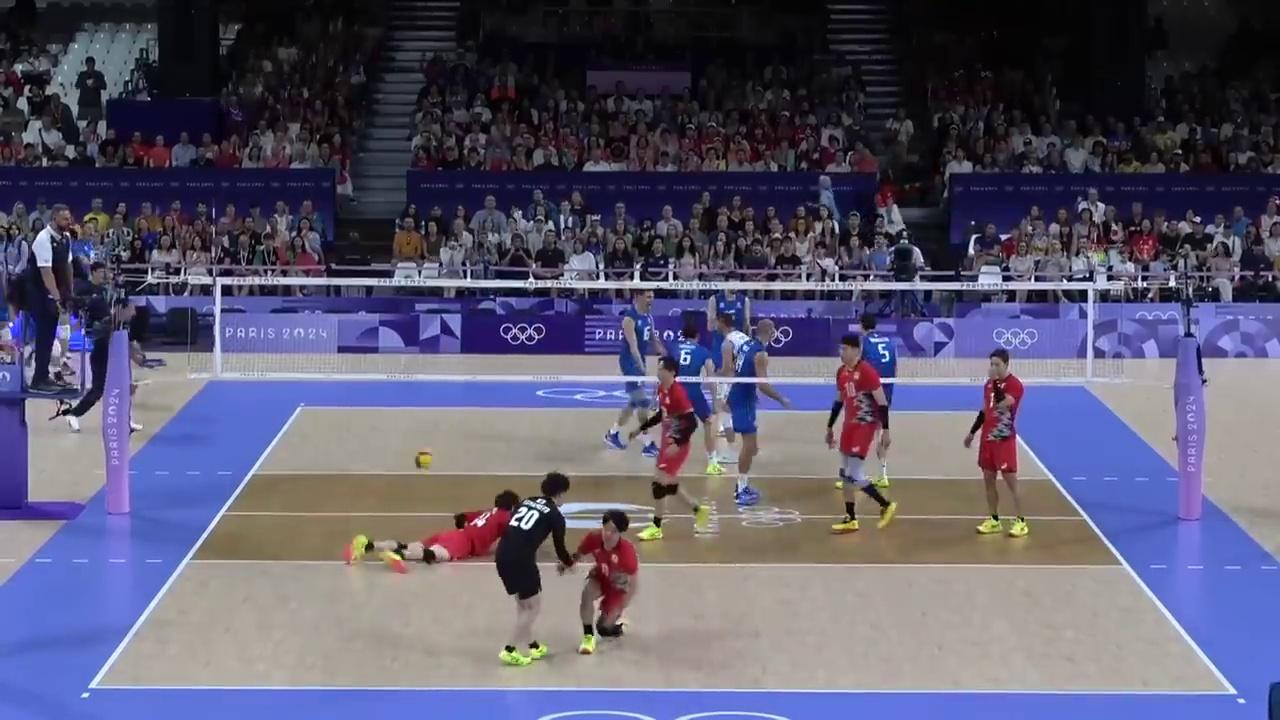ball: (417, 450, 432, 468)
